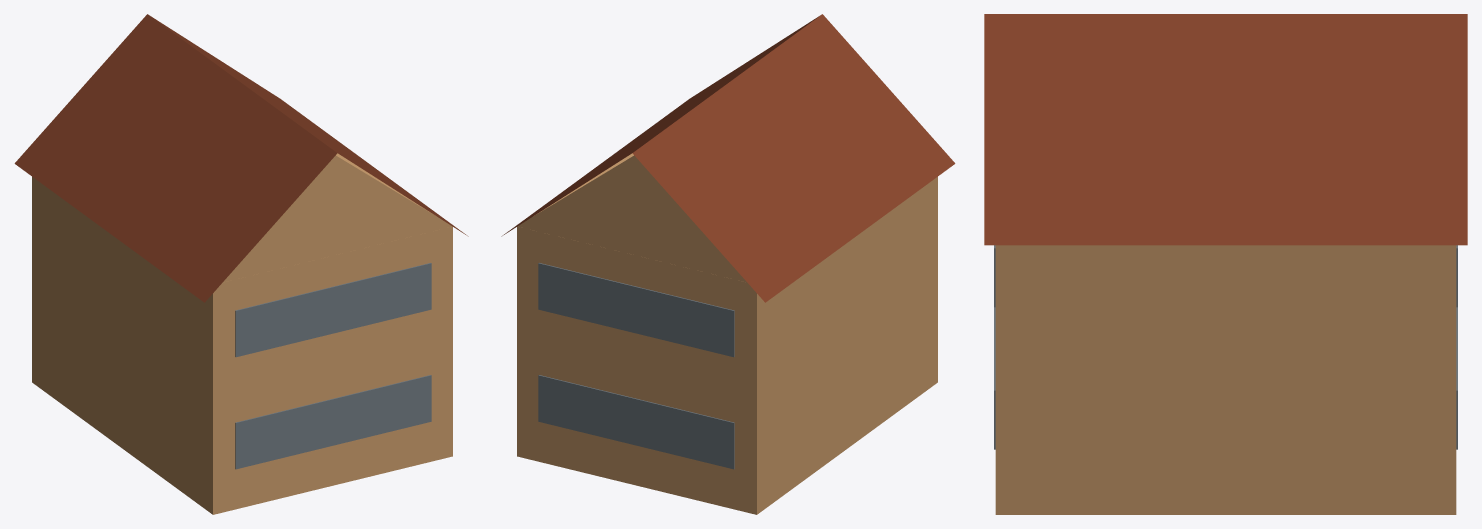
The model's file is cove-house-orange.tone-v1.lod2.glb.
The picture shows the model from 3 angles, left to right: view 1: azimuth 30°, elevation 25°; view 2: azimuth 150°, elevation 25°; view 3: azimuth 270°, elevation 25°; orthographic projection. The views are drawn at different scales.
Visible parts, largest first — view 1: cove-house-orange; view 2: cove-house-orange; view 3: cove-house-orange.
Part boxes in pixels (x1,y1,x2,y2): cove-house-orange: (14, 14, 468, 514); cove-house-orange: (501, 14, 955, 514); cove-house-orange: (984, 14, 1467, 514).
Size of the model in its own units: 7.2 by 8.69 by 8.92.
